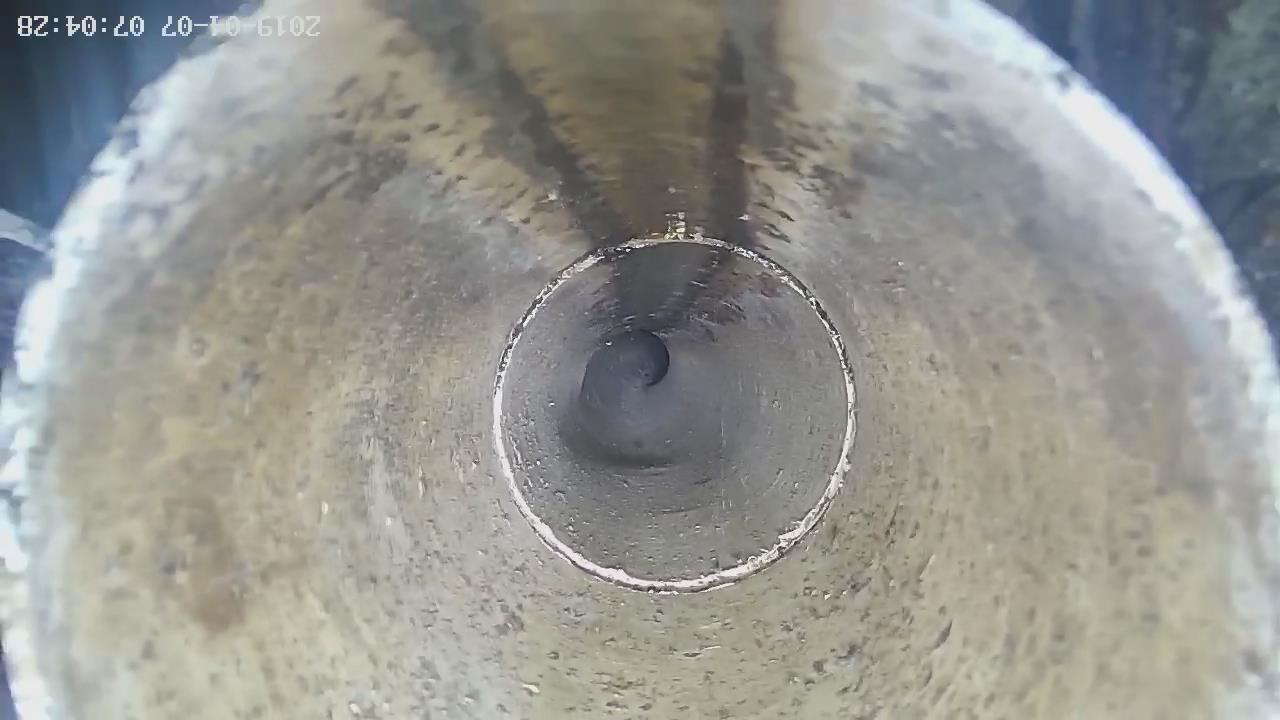BX: (543, 316, 734, 479)
CKTJ: (493, 234, 857, 595)
